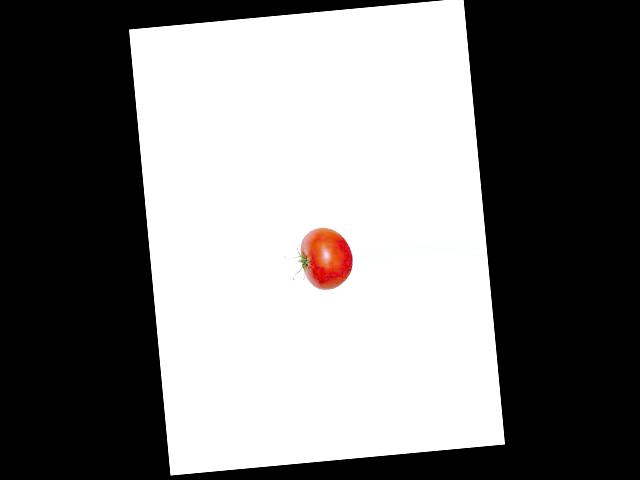tomato: (298, 225, 354, 291)
